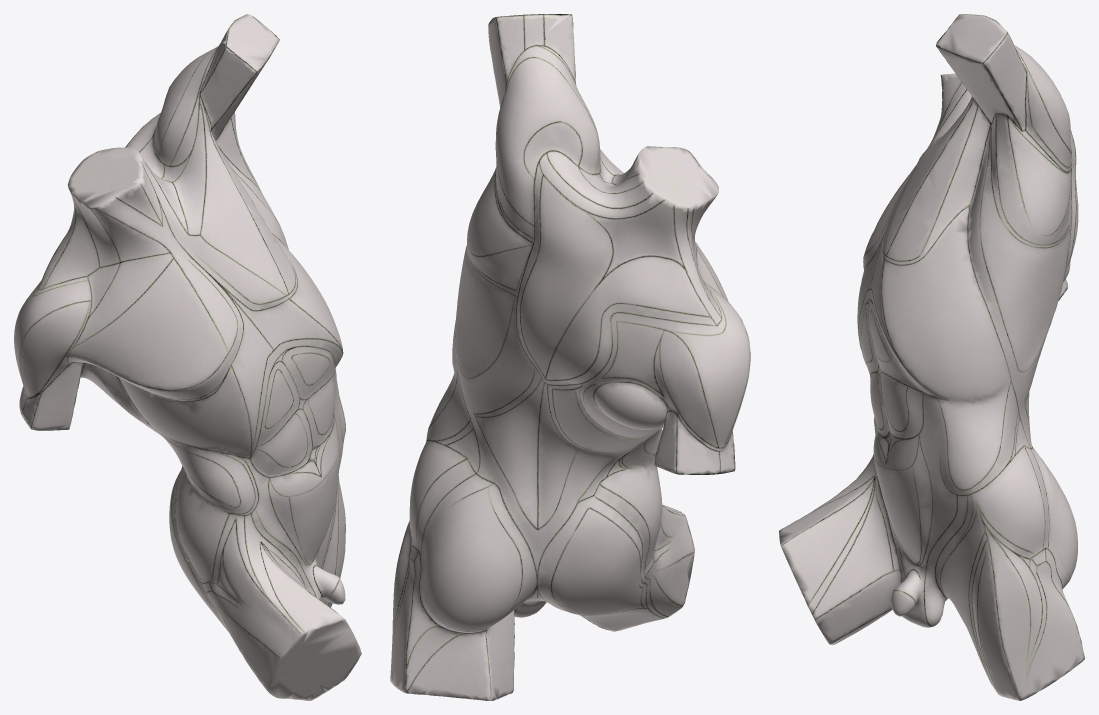
The model's file is 人物其它_20260324191900_opt.glb.
3 renders of one model, left to right at view 1: azimuth 30°, elevation 25°; view 2: azimuth 150°, elevation 25°; view 3: azimuth 270°, elevation 25°, orthographic. The views are drawn at different scales.
Visible parts, largest first — view 1: MuscleMan_Block_lvl_1_Low; view 2: MuscleMan_Block_lvl_1_Low; view 3: MuscleMan_Block_lvl_1_Low.
Part boxes in pixels (x1=…): MuscleMan_Block_lvl_1_Low: x1=14, y1=14, x2=361, y2=700; MuscleMan_Block_lvl_1_Low: x1=390, y1=14, x2=750, y2=700; MuscleMan_Block_lvl_1_Low: x1=779, y1=14, x2=1084, y2=700.
Size of the model in its own units: 0.2152 by 0.3999 by 0.1755.
1 material, 1 textured.
